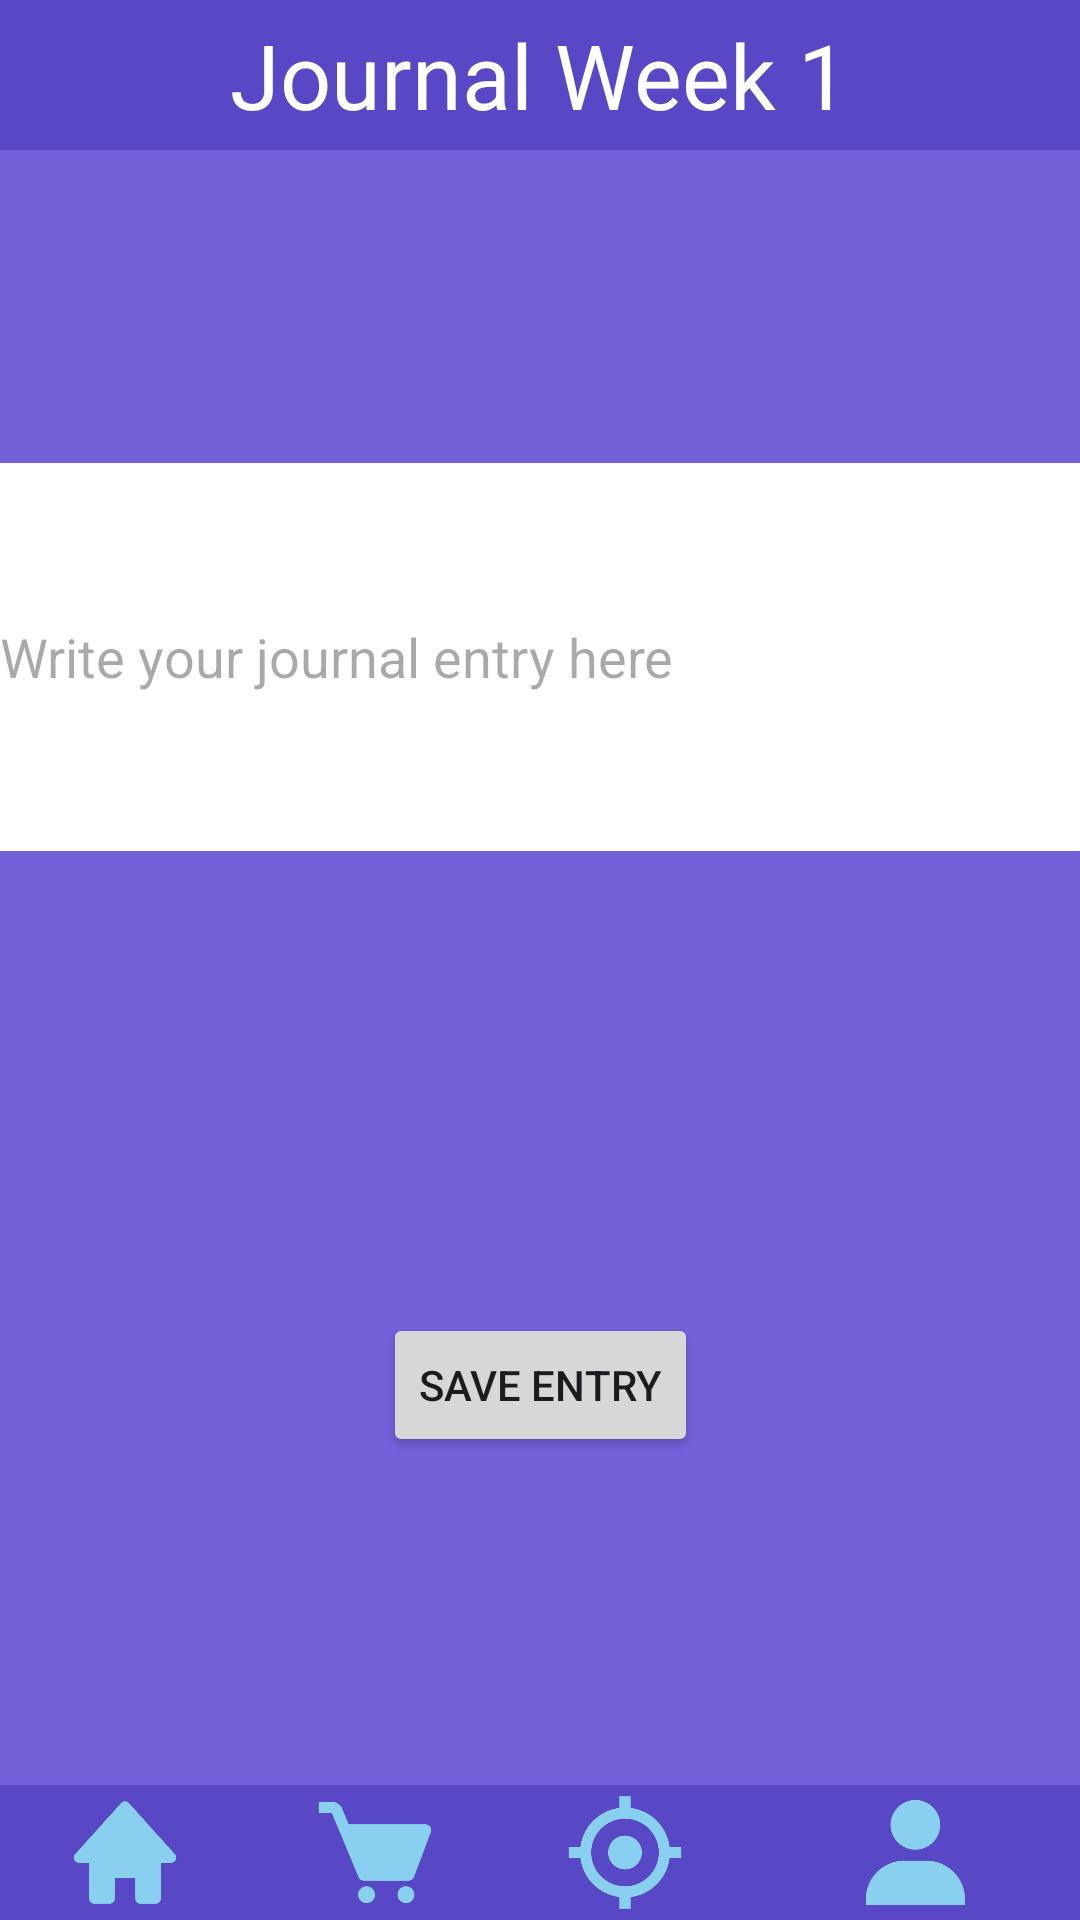

Icon bounding boxes for this 1080px x 1920px phone screenshot, format [x1,y1,x2,y2]:
home: [74,1801,176,1904]
profile: [866,1800,965,1905]
shop: [319,1802,431,1903]
